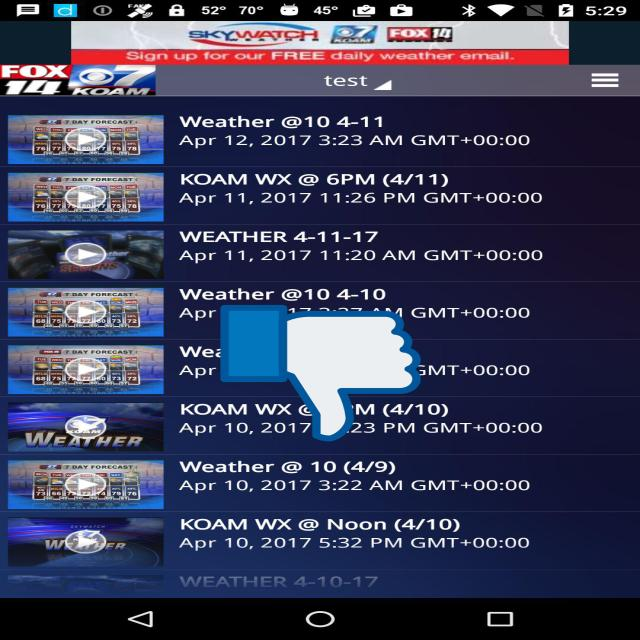obstruction: (220, 302, 421, 444)
